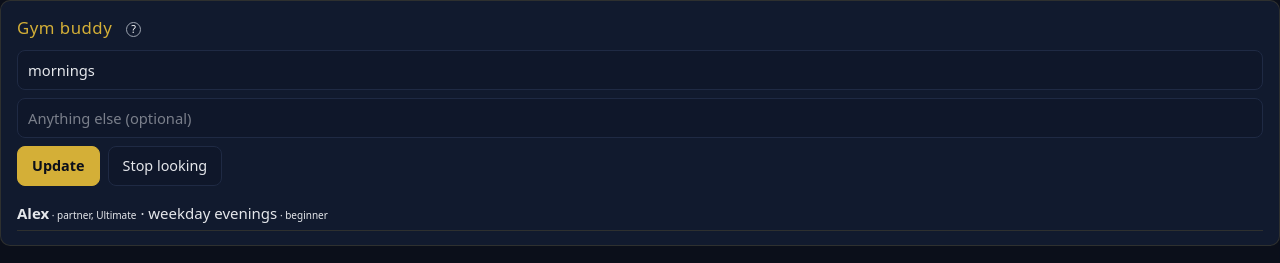
GymBuddy › stops looking
Click the button "Stop looking".
click(165, 166)  # box [108,146,222,186]
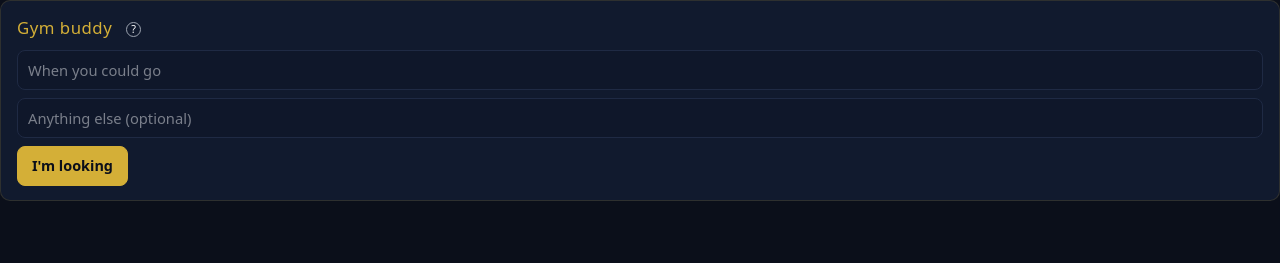
Check: the button "I'm looking" is shown, box [17,146,128,186]
